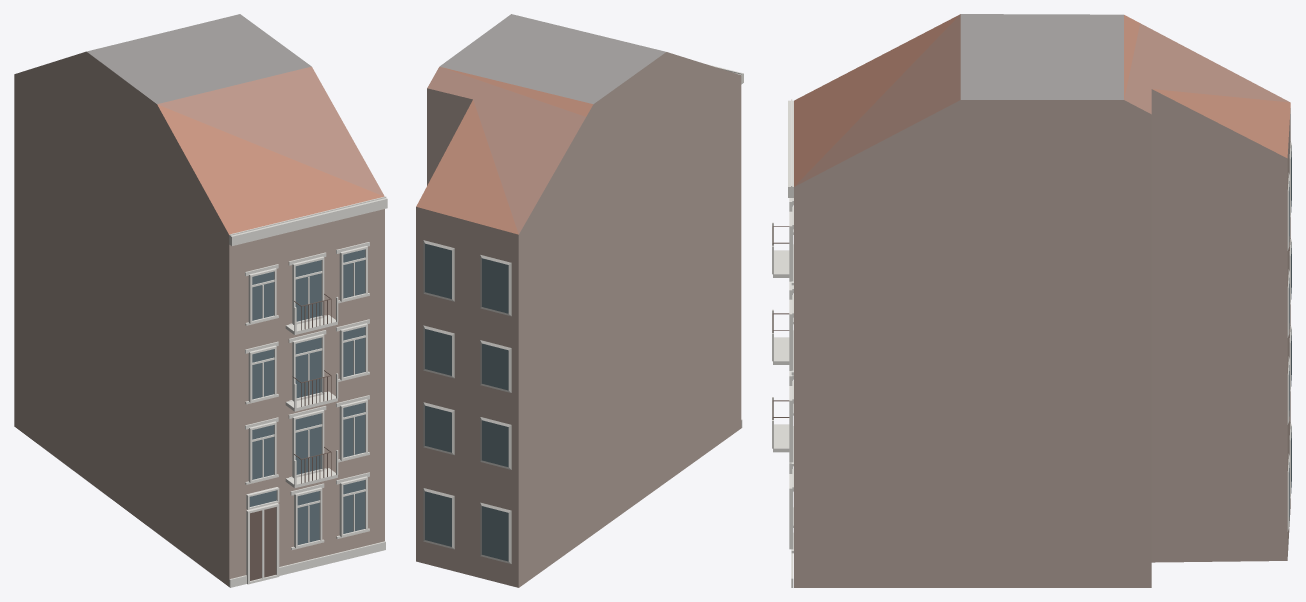
The model's file is chunk-face-paardekraal-1-15-r1.glb.
3 views of the same model, side by side, from view 1: azimuth 30°, elevation 25°; view 2: azimuth 150°, elevation 25°; view 3: azimuth 270°, elevation 25° (orthographic). The views are drawn at different scales.
Visible parts, largest first — view 1: face-paardekraal-1-15-r1; view 2: face-paardekraal-1-15-r1; view 3: face-paardekraal-1-15-r1.
Part boxes in pixels (x1,y1,x2,y2): face-paardekraal-1-15-r1: (14,14,387,587); face-paardekraal-1-15-r1: (416,14,743,587); face-paardekraal-1-15-r1: (772,14,1291,587).
Bounding box in the file's own units: 6.05 × 15.89 × 15.34.
